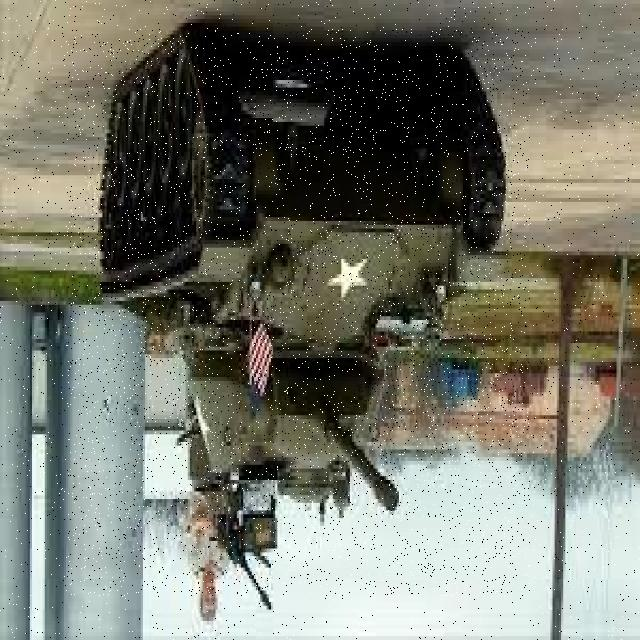MIL_MBT: (69, 29, 529, 596)
